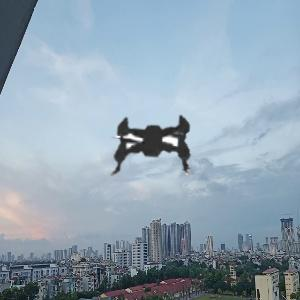drone: (17, 11, 274, 268)
